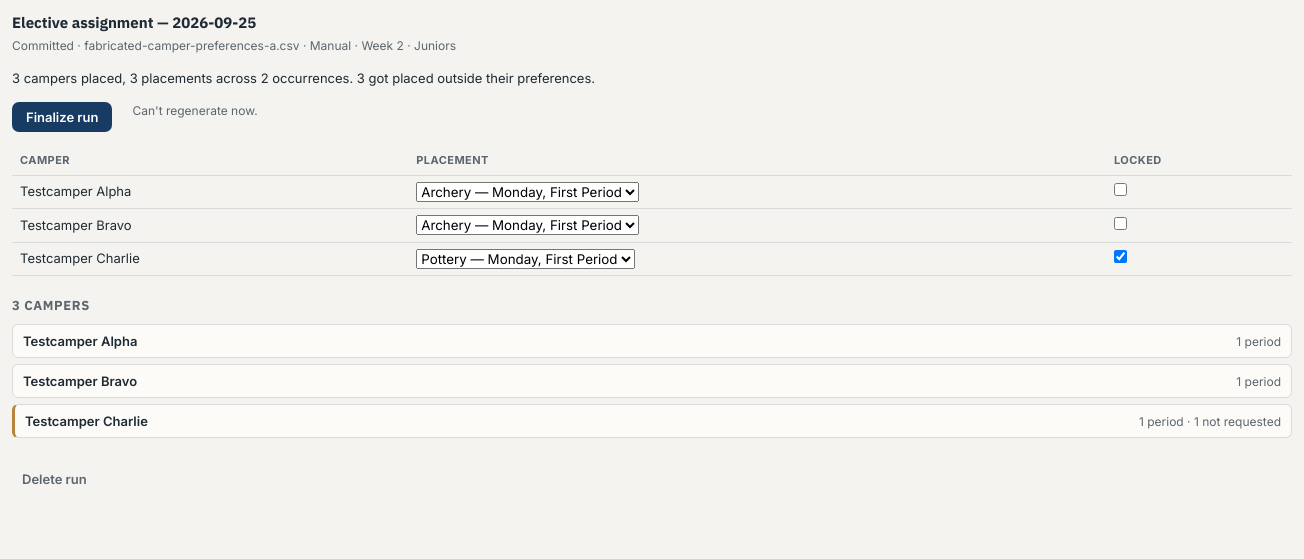
it: T250 A1 — Finalize run › an unrecognised error string renders verbatim, with nothing changed
Click the button "Finalize run".
click(62, 117)  # box [12,102,112,132]
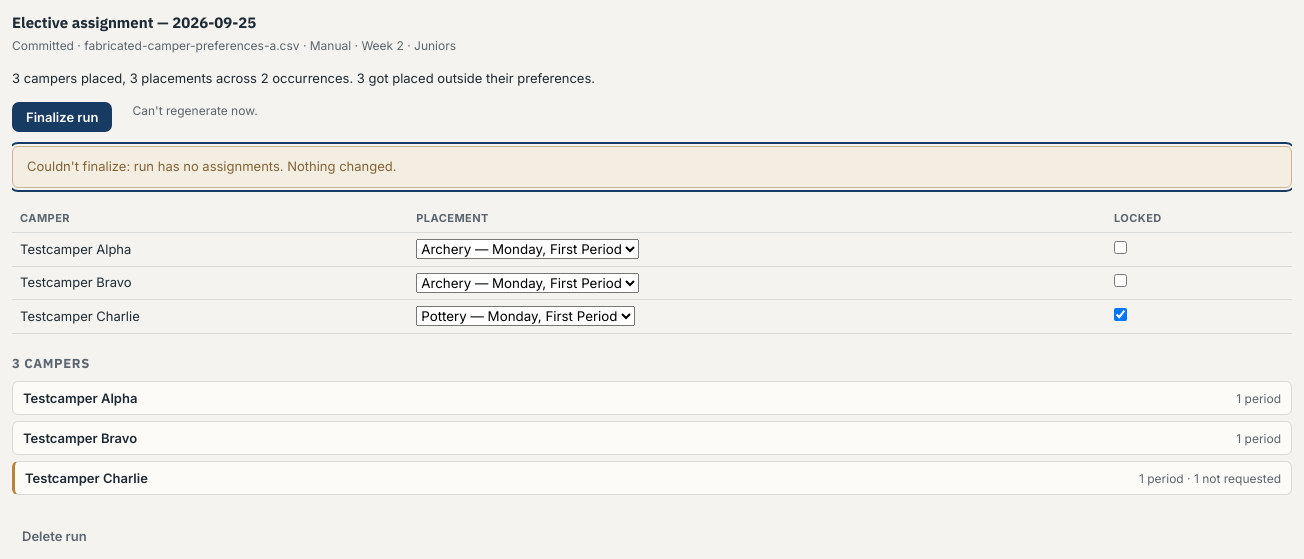
Result: the text "Couldn't finalize: run has no assignments. Nothing changed." is shown at [27,157,396,176]
